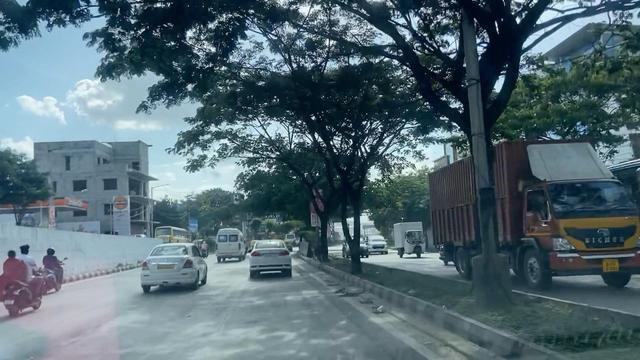HMV: (215, 228, 245, 262)
LMV: (0, 240, 40, 308), (145, 238, 193, 290), (251, 240, 289, 272), (47, 246, 66, 299)
